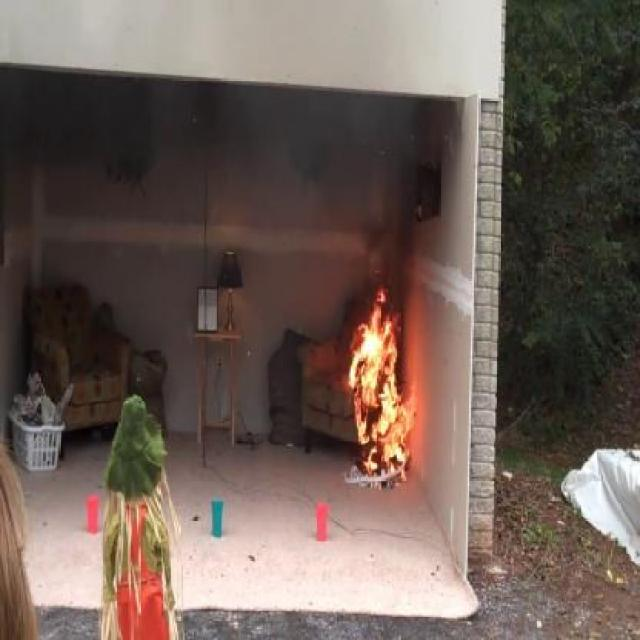fire: (346, 294, 414, 488)
smoke: (58, 51, 466, 216)
